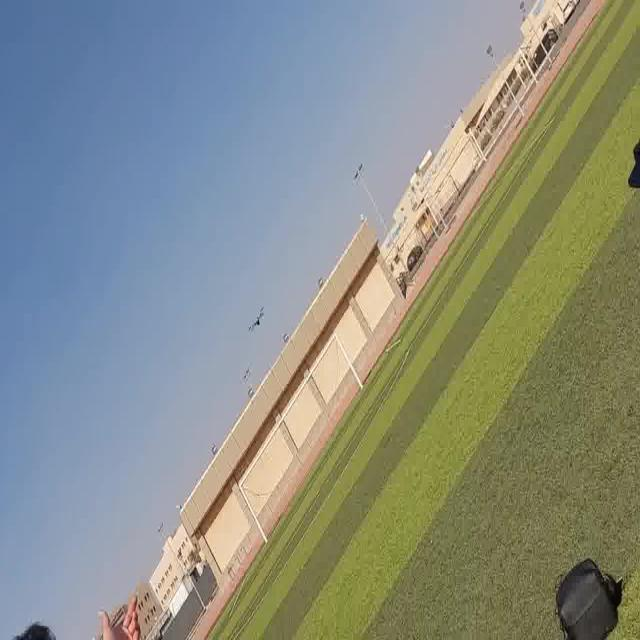drone: (238, 298, 270, 345)
